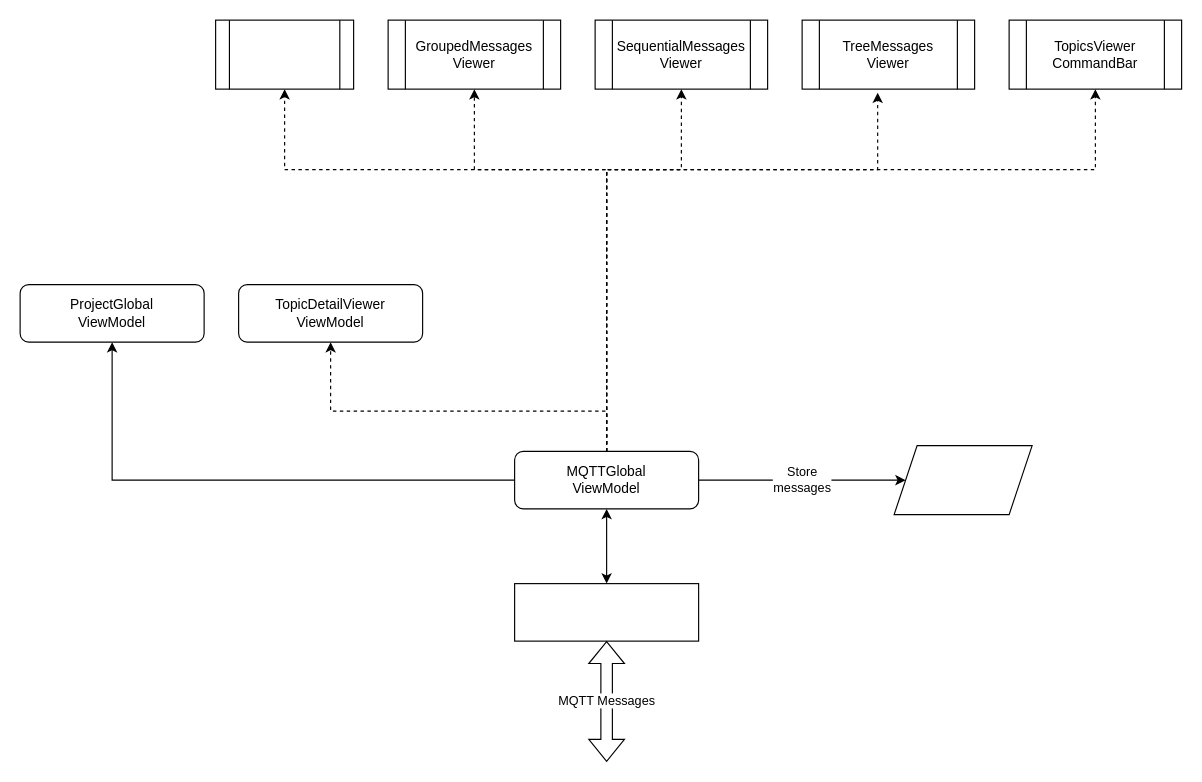
This 1202x782 diagram has some shape labels left out. The centre of each missing label's shape, as x and y in pixels:
"ConnectButton" belongs at (284,54).
"MessageBuffer" belongs at (962,479).
"MQTTController" belongs at (606,611).
